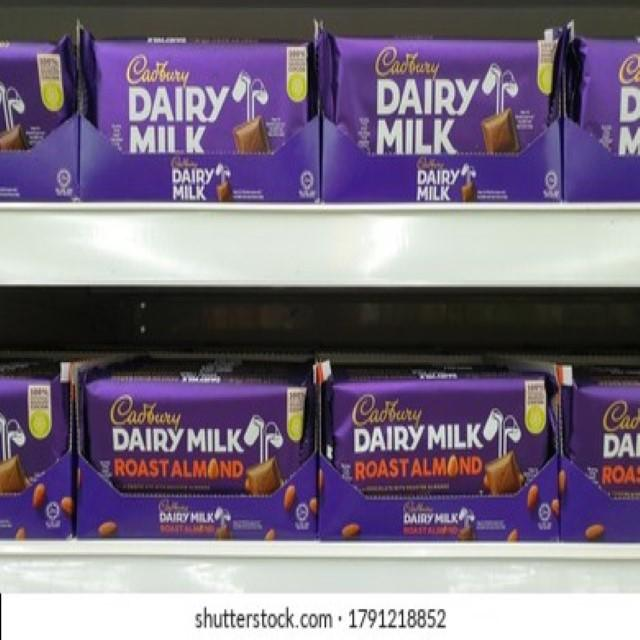cadbury_chocolate: (325, 30, 558, 205), (85, 360, 315, 528), (338, 364, 560, 538), (87, 35, 315, 200), (0, 29, 73, 203), (0, 358, 73, 524), (581, 358, 640, 526), (576, 43, 640, 193)
